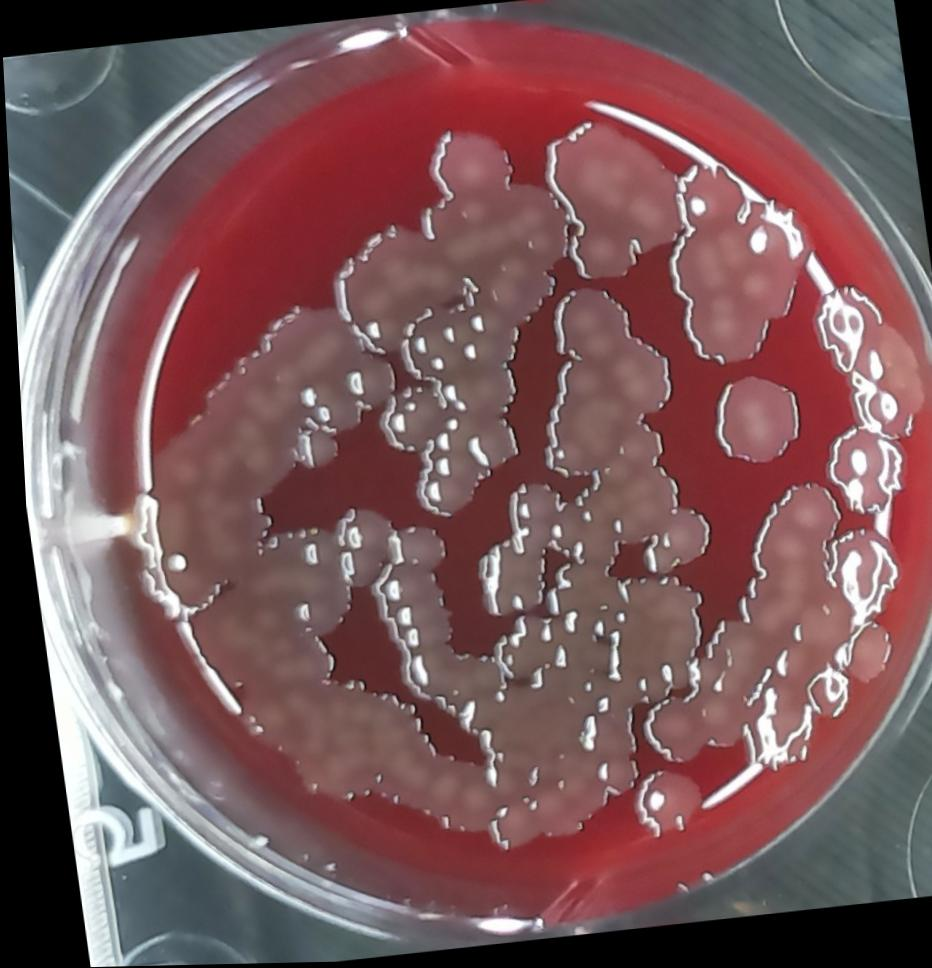vproteolyticus: (310, 112, 610, 523), (596, 478, 926, 792), (502, 272, 725, 596), (659, 153, 829, 385), (530, 108, 693, 292), (803, 279, 932, 453), (699, 371, 818, 482), (814, 419, 915, 533), (620, 765, 712, 854)
